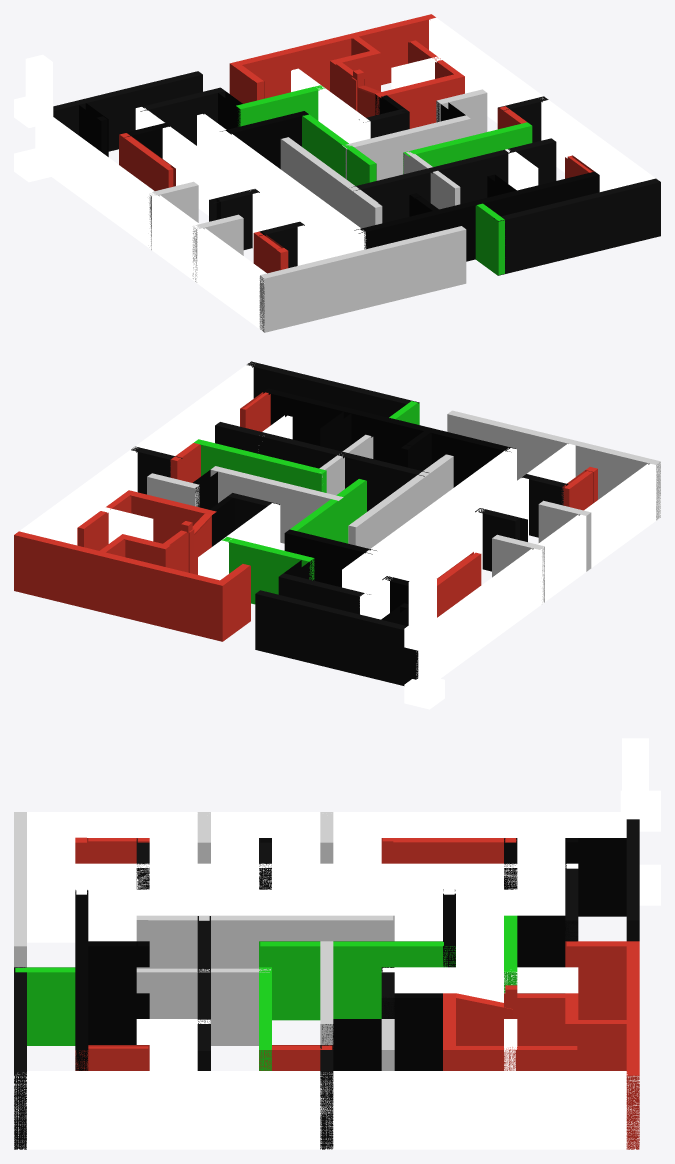
The model's file is path.glb.
The picture shows the model from 3 angles, top to bottom: view 1: azimuth 30°, elevation 25°; view 2: azimuth 150°, elevation 25°; view 3: azimuth 270°, elevation 25°; orthographic projection. The views are drawn at different scales.
Visible parts, largest first — view 1: Curve.022, Curve.020, Curve.021, Curve.045, Curve.027, Curve.001, Curve.026, Curve.017, Curve.019, Curve, Curve.029, Curve.012 (+29 smaller); view 2: Curve.022, Curve.001, Curve, Curve.045, Curve.019, Curve.027, Curve.026, Curve.020, Curve.017, Curve.029, Curve.021, Cube (+30 smaller); view 3: Curve.045, Curve.022, Curve.026, Curve.027, Curve.031, Curve.029, Curve.034, Curve.033, Curve.023, Curve.030, Curve.035, Curve.037 (+35 smaller).
Part boxes in pixels (<box>): Curve.022: <box>35,114,266,331</box>; Curve.020: <box>259,226,466,332</box>; Curve.021: <box>493,178,660,275</box>; Curve.045: <box>429,17,655,191</box>; Curve.027: <box>197,114,366,254</box>; Curve.001: <box>229,14,435,98</box>; Curve.026: <box>135,107,344,265</box>; Curve.017: <box>351,138,556,222</box>; Curve.019: <box>354,171,599,261</box>; Curve: <box>53,71,202,151</box>; Curve.029: <box>280,137,382,228</box>; Curve.012: <box>342,115,470,180</box>; Curve.022: <box>416,462,660,681</box>; Curve.001: <box>14,531,227,641</box>; Curve: <box>255,590,418,685</box>; Curve.045: <box>19,362,253,545</box>; Curve.019: <box>263,388,515,487</box>; Curve.027: <box>342,448,516,592</box>; Curve.026: <box>360,444,575,619</box>; Curve.020: <box>447,410,660,520</box>; Curve.017: <box>215,422,428,511</box>; Curve.029: <box>348,454,453,548</box>; Curve.021: <box>247,361,419,417</box>; Cube: <box>404,574,444,709</box>; Curve.045: <box>14,1071,639,1149</box>; Curve.022: <box>27,812,626,863</box>; Curve.026: <box>27,863,578,942</box>; Curve.027: <box>75,889,517,967</box>; Curve.031: <box>259,941,455,1020</box>; Curve.029: <box>136,915,394,967</box>; Curve.034: <box>136,967,270,1045</box>; Curve.033: <box>382,967,578,1002</box>; Curve.023: <box>565,838,626,916</box>; Curve.030: <box>565,941,626,1018</box>; Curve.035: <box>15,967,75,1045</box>; Curve.037: <box>381,993,442,1070</box>.
Size of the model in its own units: 47.53 by 12.65 by 47.63.
